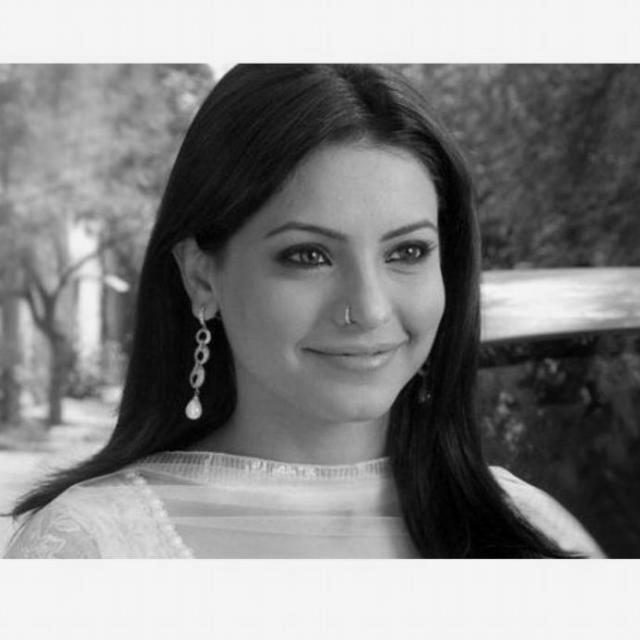real: (171, 142, 465, 420)
